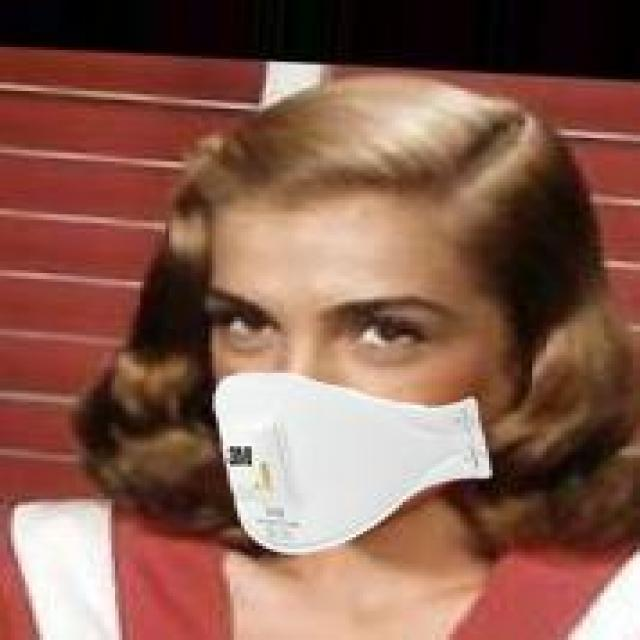mask: (144, 105, 593, 572)
